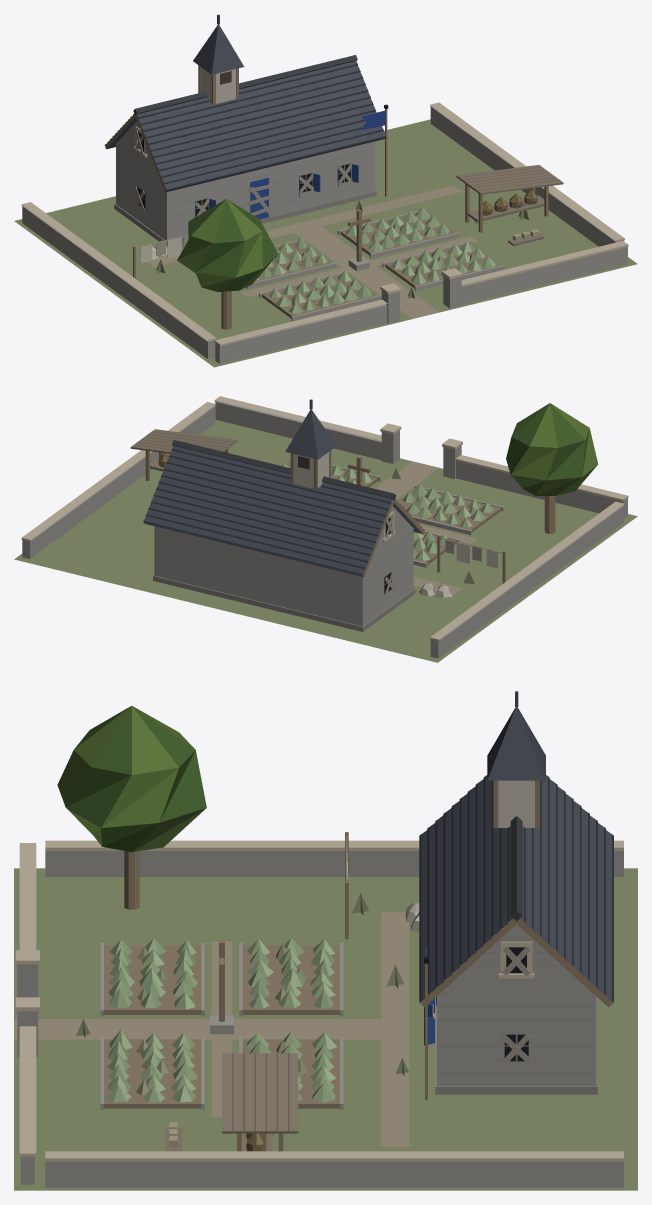
The model's file is klosterhof.glb.
3 views of the same model, one above another, from view 1: azimuth 30°, elevation 25°; view 2: azimuth 150°, elevation 25°; view 3: azimuth 270°, elevation 25° (orthographic). The views are drawn at different scales.
Visible parts, largest first — view 1: Haus, Arbeit, Laubkrone_Haus, Leerstand, Fahne; view 2: Haus, Laubkrone_Haus, Arbeit, Leerstand; view 3: Haus, Laubkrone_Haus, Arbeit, Leerstand.
Boxes of the visible parts, x1,y1,x2,y2 form: Haus: (14,14,637,367); Arbeit: (133,190,544,313); Laubkrone_Haus: (177,199,278,291); Leerstand: (134,130,528,305); Fahne: (361,104,388,196); Haus: (14,396,637,662); Laubkrone_Haus: (506,403,598,495); Arbeit: (158,453,505,597); Leerstand: (346,468,476,595); Haus: (14,691,637,1190); Laubkrone_Haus: (57,706,206,852); Arbeit: (106,832,419,1151); Leerstand: (76,892,532,1135).
Bounding box in the file's own units: 22 × 9.68 × 18.
